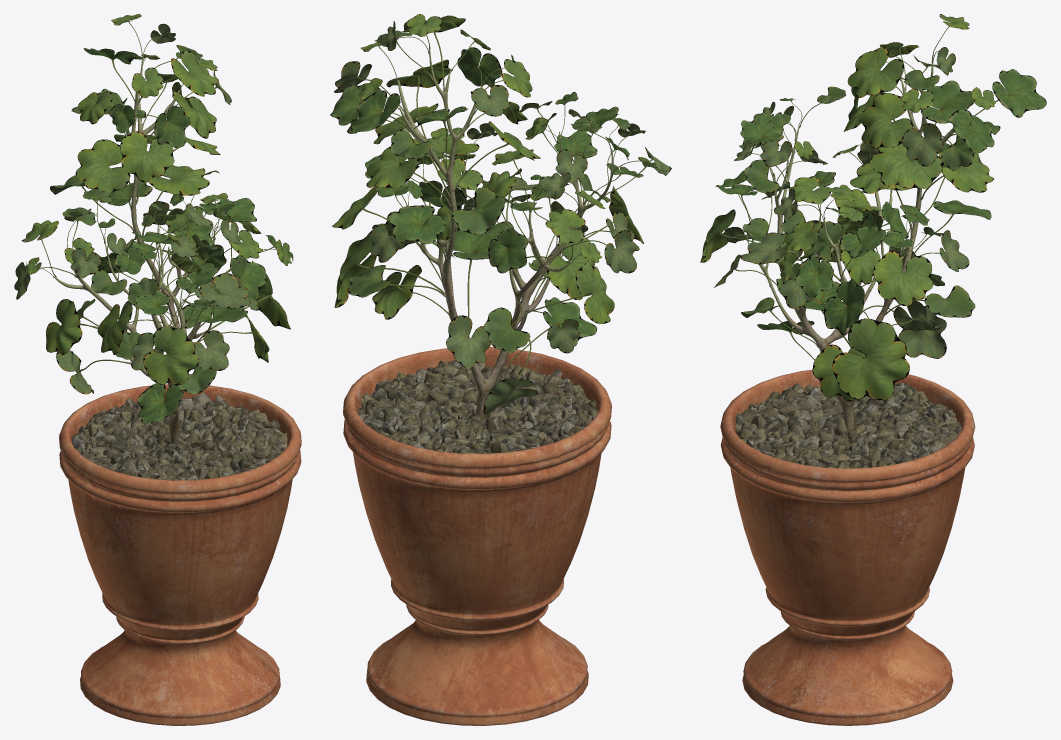
The model's file is potted_plant_01.gltf.
3 renders of one model, left to right at view 1: azimuth 30°, elevation 25°; view 2: azimuth 150°, elevation 25°; view 3: azimuth 270°, elevation 25°, orthographic. The views are drawn at different scales.
Parts seen in each view (by area): view 1: potted_plant_01_pot, potted_plant_01_leaves, potted_plant_01_pebbles, potted_plant_01_stem; view 2: potted_plant_01_pot, potted_plant_01_leaves, potted_plant_01_pebbles, potted_plant_01_stem; view 3: potted_plant_01_pot, potted_plant_01_leaves, potted_plant_01_pebbles, potted_plant_01_stem.
Part boxes in pixels (x1,y1,x2,y2): potted_plant_01_pot: (59,384,301,725); potted_plant_01_leaves: (14,14,293,423); potted_plant_01_pebbles: (71,392,287,480); potted_plant_01_stem: (53,54,244,443); potted_plant_01_pot: (343,347,611,725); potted_plant_01_leaves: (330,14,671,414); potted_plant_01_pebbles: (358,360,597,453); potted_plant_01_stem: (397,49,612,420); potted_plant_01_pot: (720,369,975,725); potted_plant_01_leaves: (700,14,1046,401); potted_plant_01_pebbles: (735,382,961,468); potted_plant_01_stem: (751,55,966,431).
Bounding box in the file's own units: 0.5874 × 1.34 × 0.6336.
Materials: 2 (2 with a texture image).
